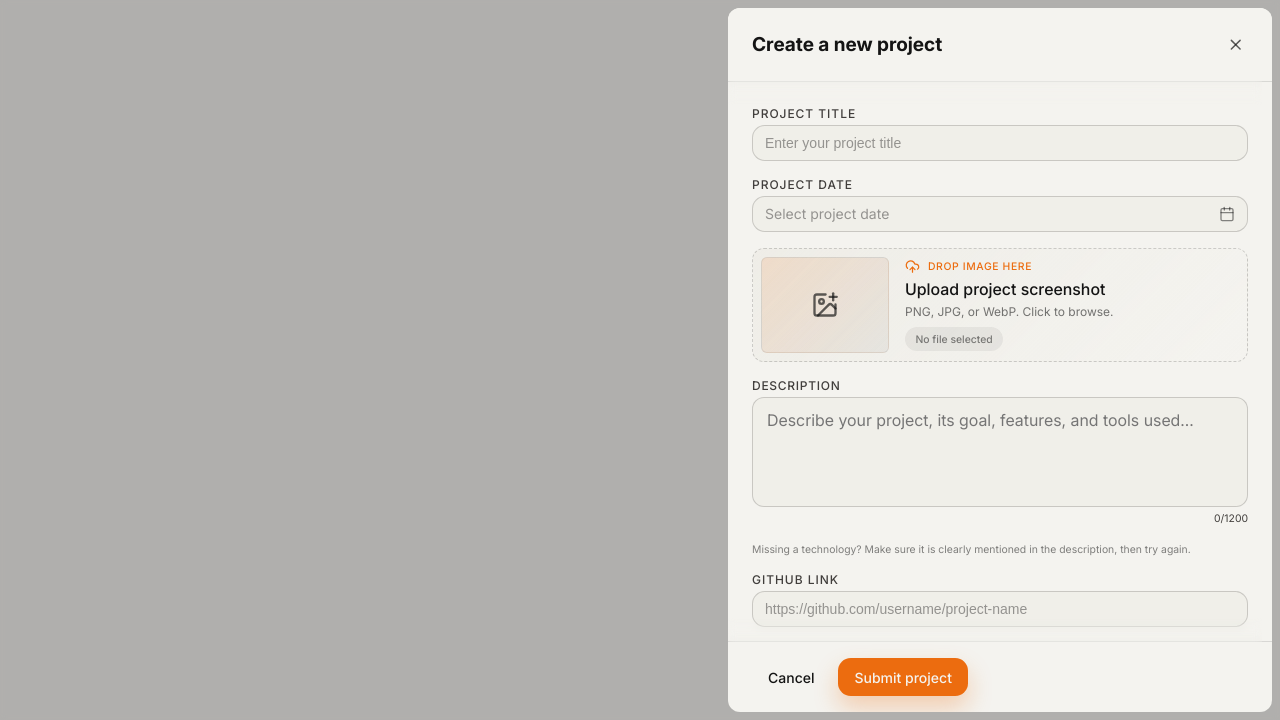
Scenario: ExperienceModal › analyzes description and renders detected labels
Type "This project uses Vue.js and Express.js for web development." into the text box with id "description" at coordinates (1000, 452), box x1=752 y1=397 x2=1248 y2=507
Wait 2000 ms
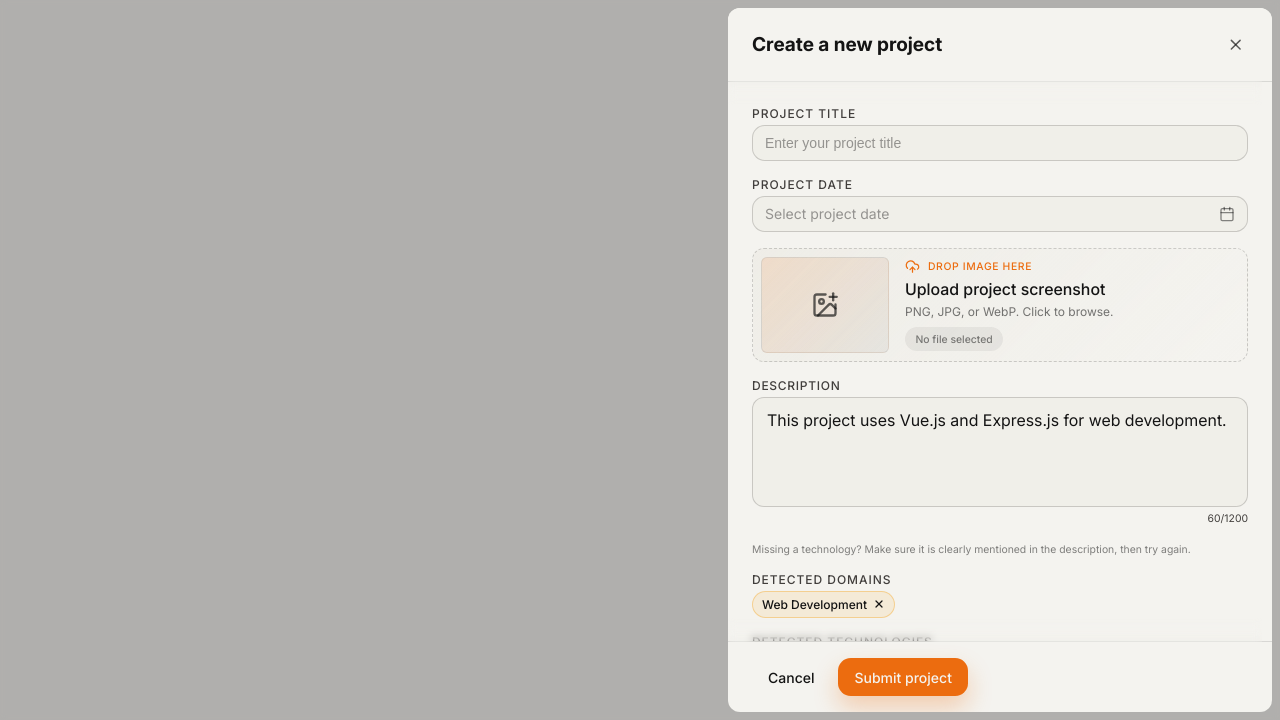
Check: the text "Detected domains" is shown, box x1=752 y1=572 x2=892 y2=587
Check: the text "Web Development" is shown, box x1=752 y1=591 x2=895 y2=618
